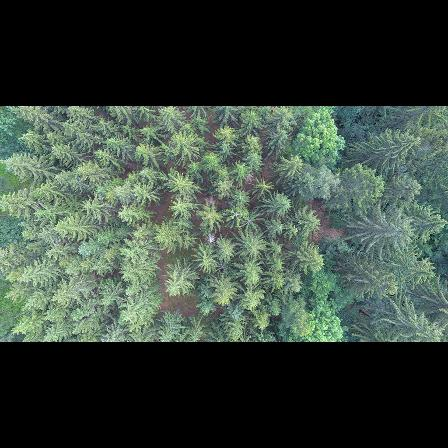Dead: (201, 229, 222, 246)
Sick: (242, 211, 258, 229)
